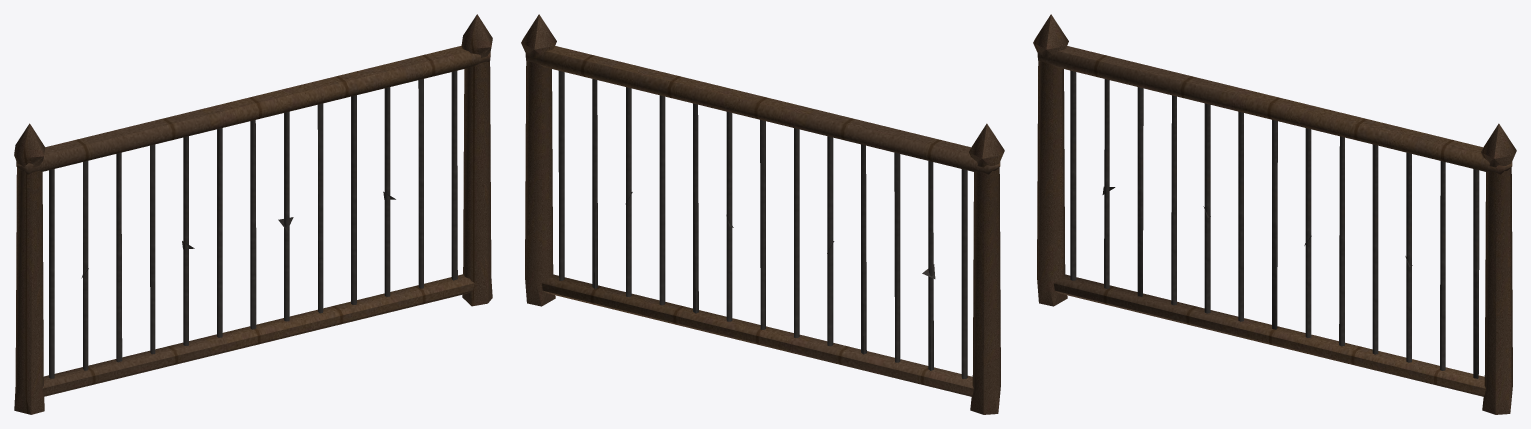
File: balcony_railing_lod1.glb
3 views of the same model, side by side, from view 1: azimuth 30°, elevation 25°; view 2: azimuth 150°, elevation 25°; view 3: azimuth 330°, elevation 25° (orthographic).
Parts seen in each view (by area): view 1: balcony_railing; view 2: balcony_railing; view 3: balcony_railing.
Part boxes in pixels (x1,y1,x2,y2): balcony_railing: [14, 14, 492, 414]; balcony_railing: [521, 14, 1004, 414]; balcony_railing: [1033, 14, 1516, 414].
Size of the model in its own units: 2.14 by 1.22 by 0.1463.
1 material, 1 textured.
